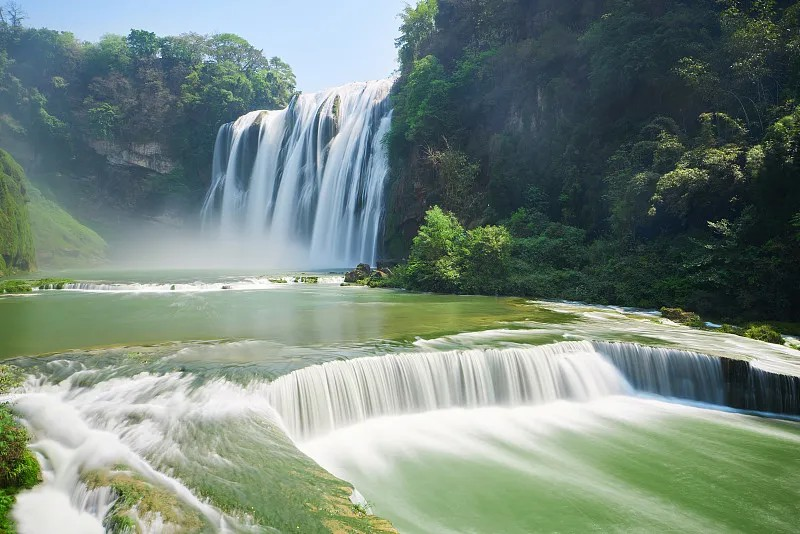Huangguoshu: (196, 79, 391, 269)
